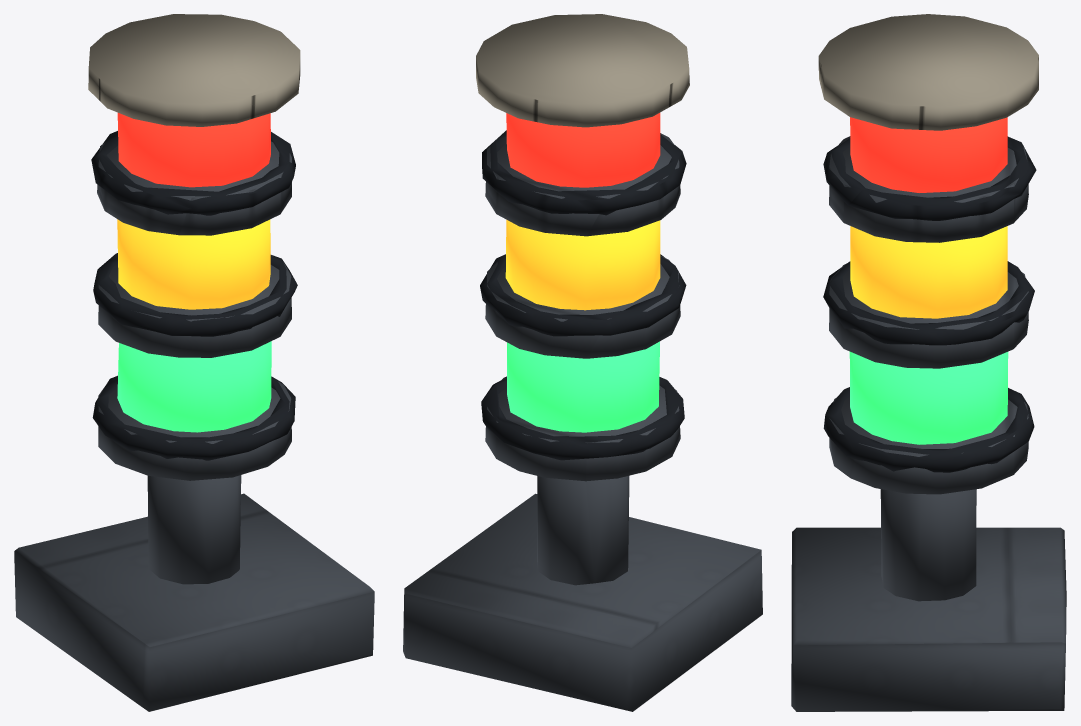
Rendered from ops_status_signal_housing_lod2.glb.
3 views of the same model, side by side, from view 1: azimuth 30°, elevation 25°; view 2: azimuth 150°, elevation 25°; view 3: azimuth 270°, elevation 25° (orthographic). The views are drawn at different scales.
Visible parts, largest first — view 1: LOD2_Mechanical, LOD2_Hull, LOD2_MechanicalDark, LOD2_HOOK_NAV_STARBOARD, LOD2_Beacon_Amber, LOD2_HOOK_NAV_PORT; view 2: LOD2_Mechanical, LOD2_Hull, LOD2_MechanicalDark, LOD2_Beacon_Amber, LOD2_HOOK_NAV_STARBOARD, LOD2_HOOK_NAV_PORT; view 3: LOD2_Mechanical, LOD2_Hull, LOD2_MechanicalDark, LOD2_HOOK_NAV_STARBOARD, LOD2_Beacon_Amber, LOD2_HOOK_NAV_PORT.
Part boxes in pixels (x1,y1,x2,y2): LOD2_Mechanical: (14, 141, 374, 711); LOD2_Hull: (88, 14, 300, 126); LOD2_MechanicalDark: (91, 131, 297, 460); LOD2_HOOK_NAV_STARBOARD: (117, 341, 271, 432); LOD2_Beacon_Amber: (117, 219, 270, 309); LOD2_HOOK_NAV_PORT: (117, 113, 270, 187); LOD2_Mechanical: (403, 133, 762, 711); LOD2_Hull: (476, 14, 689, 127); LOD2_MechanicalDark: (480, 130, 686, 460); LOD2_Beacon_Amber: (505, 219, 660, 310); LOD2_HOOK_NAV_STARBOARD: (507, 341, 659, 432); LOD2_HOOK_NAV_PORT: (506, 113, 660, 187); LOD2_Mechanical: (791, 136, 1066, 711); LOD2_Hull: (818, 14, 1038, 130); LOD2_MechanicalDark: (823, 136, 1036, 472); LOD2_HOOK_NAV_STARBOARD: (849, 351, 1008, 444); LOD2_Beacon_Amber: (850, 226, 1007, 318); LOD2_HOOK_NAV_PORT: (850, 117, 1007, 192).
Size of the model in its own units: 0.7931 by 1.89 by 0.7931.
6 materials, 3 textured.
